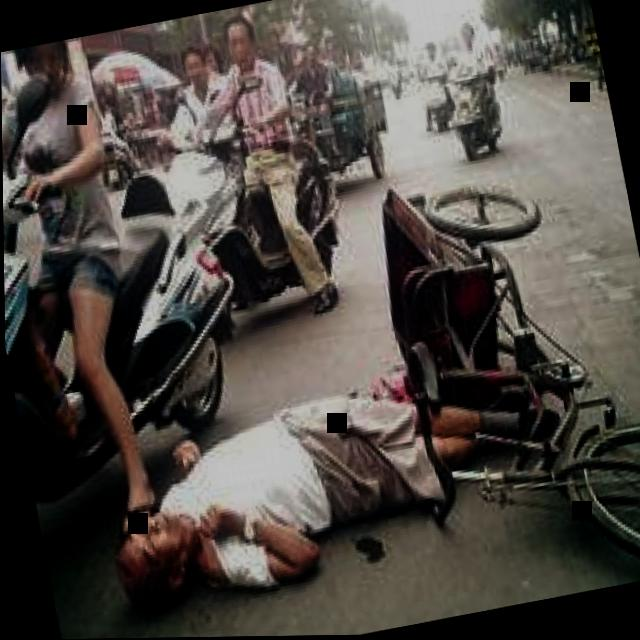Fall-Detected: (70, 315, 524, 624)
